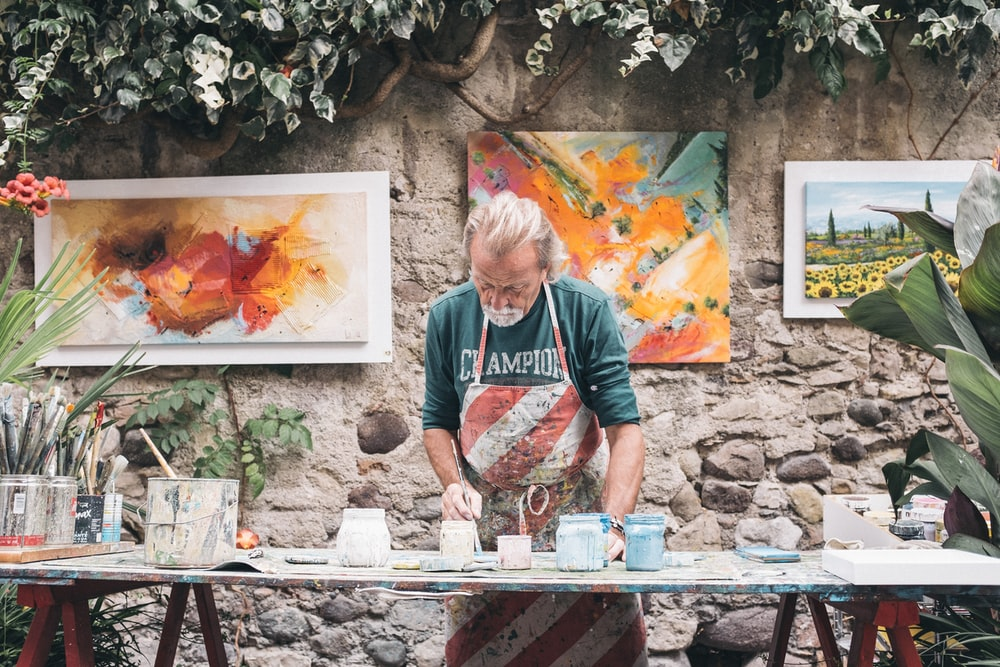face: (457, 195, 563, 332)
